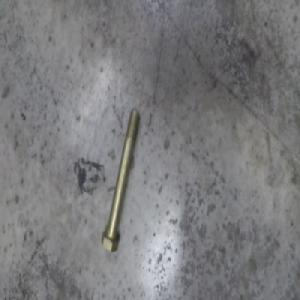Bolt: (98, 106, 140, 247)
